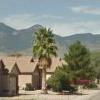Palm tree: (30, 23, 58, 92)
